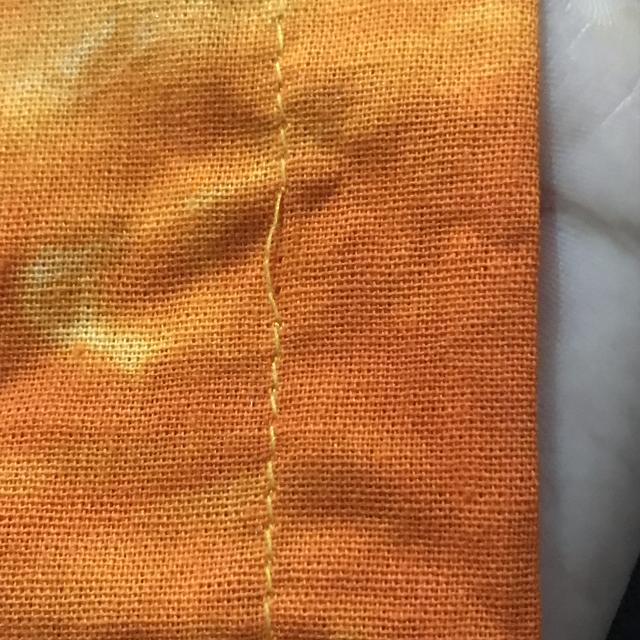good: (259, 357, 289, 561)
skip: (242, 168, 306, 322)
